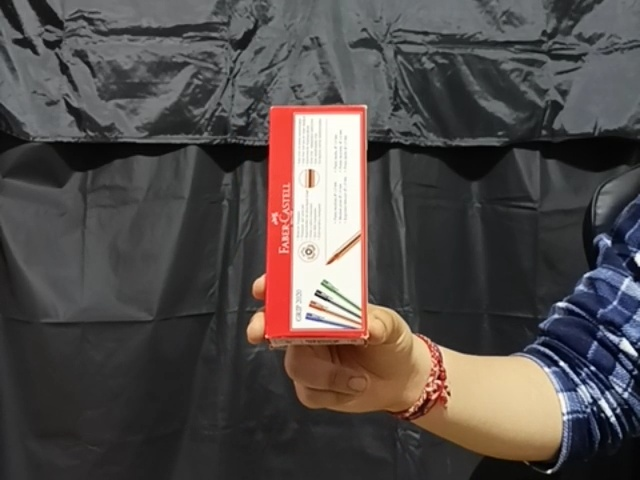xd: (266, 104, 370, 346)
